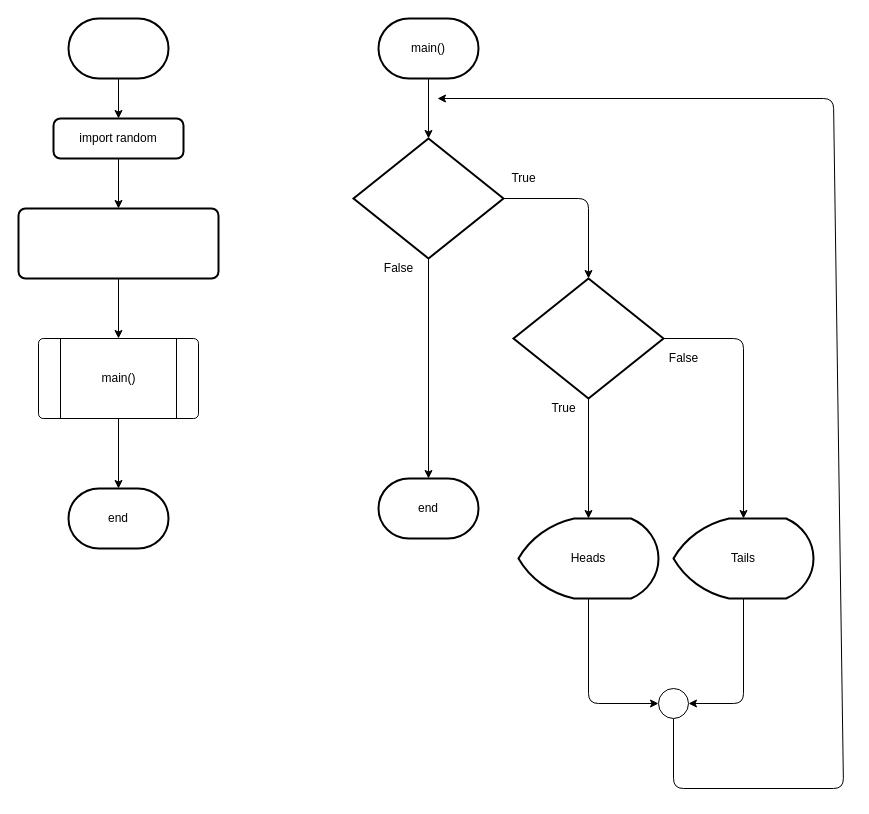
Image size: 869x814. Some labels were removed from this diagram. The shapes that lost their labels are listed below. From the top down, each one's centre as x and y in pixels, then its label:
[118,48]: start
[428,198]: toss in range(HEADS,TALLS)
[118,243]: HEADS = 1 TALLS = 2 TOSSES = 10
[588,338]: random,randint(HEADS,TALLS) == HEADS
